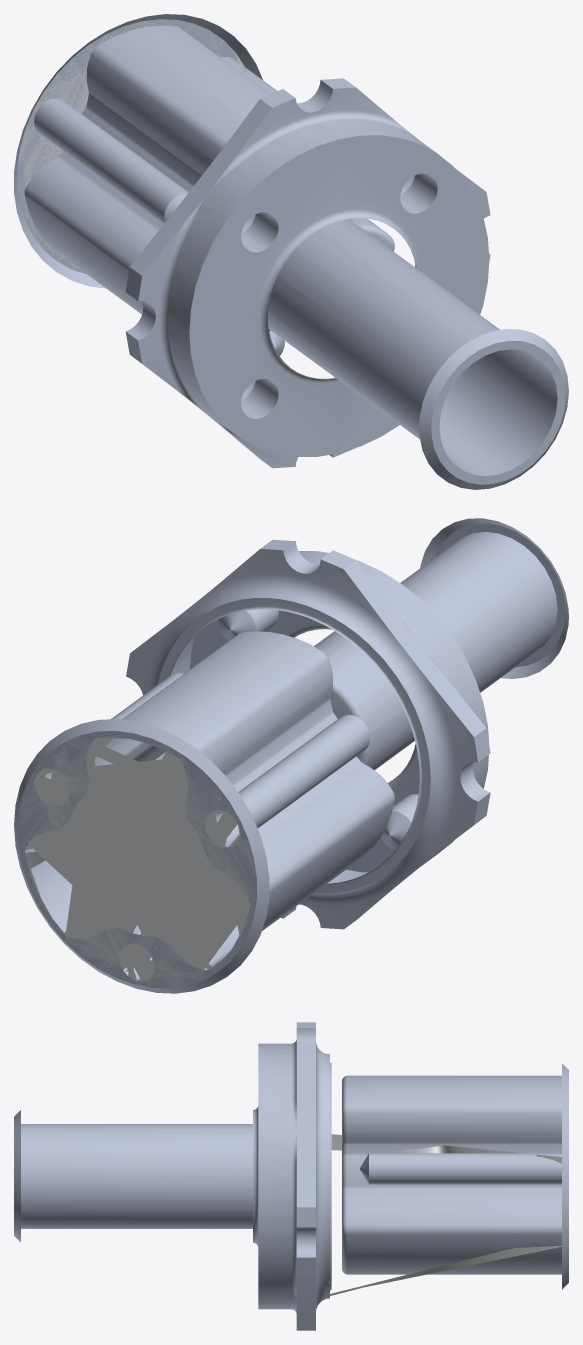
Rendered from Rear_Left_Corner_Wheel_Assembly__UA_26_Rear_Hub_2.dae.
The picture shows the model from 3 angles, top to bottom: view 1: azimuth 30°, elevation 25°; view 2: azimuth 150°, elevation 25°; view 3: azimuth 270°, elevation 25°; orthographic projection. The views are drawn at different scales.
Visible parts, largest first — view 1: node0, node1; view 2: node0, node1; view 3: node0, node1.
Boxes of the visible parts, left/top/right/bottom form: node0: left=14, top=14, right=568, bottom=489; node1: left=18, top=20, right=246, bottom=269; node0: left=14, top=518, right=568, bottom=993; node1: left=18, top=693, right=350, bottom=988; node0: left=14, top=1022, right=568, bottom=1330; node1: left=329, top=1134, right=561, bottom=1295.
Bounding box in the file's own units: 0.0895 × 0.0895 × 0.159.
